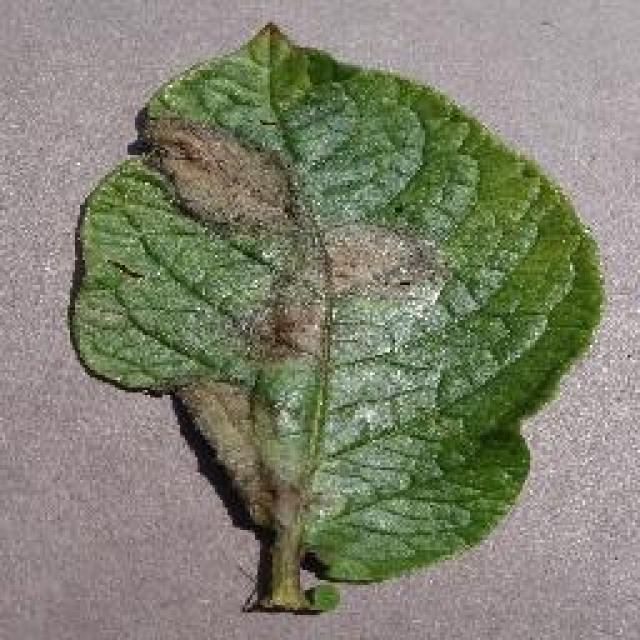Potato: (65, 18, 605, 612)
